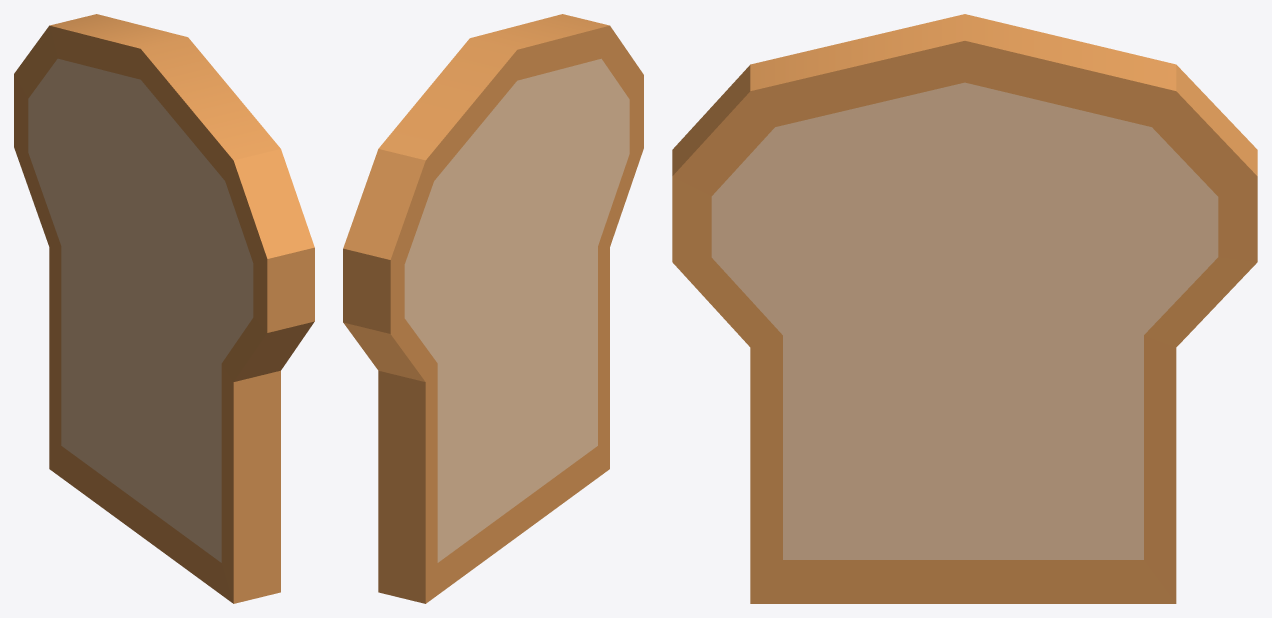
File: f09_bread_alone.FBX
3 renders of one model, left to right at view 1: azimuth 30°, elevation 25°; view 2: azimuth 150°, elevation 25°; view 3: azimuth 270°, elevation 25°, orthographic. The views are drawn at different scales.
Visible parts, largest first — view 1: Object005; view 2: Object005; view 3: Object005.
Boxes of the visible parts, x1,y1,x2,y2 form: Object005: [14, 14, 314, 603]; Object005: [343, 14, 643, 603]; Object005: [672, 14, 1257, 603].
Bounding box in the file's own units: 4.13 × 40.49 × 38.15.
